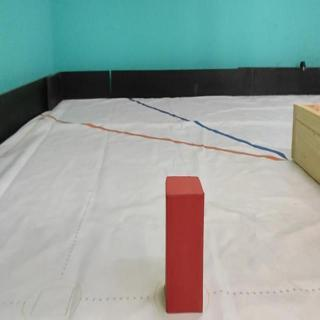redbox: (166, 176, 203, 312)
